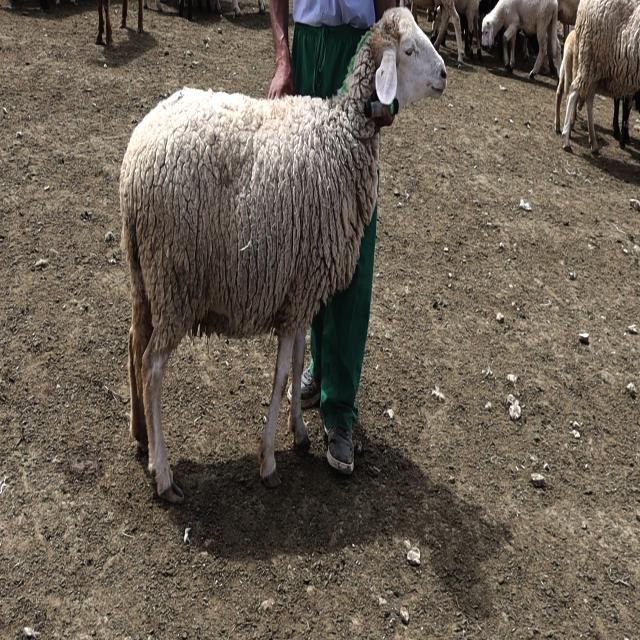Score_4: (119, 8, 447, 503)
